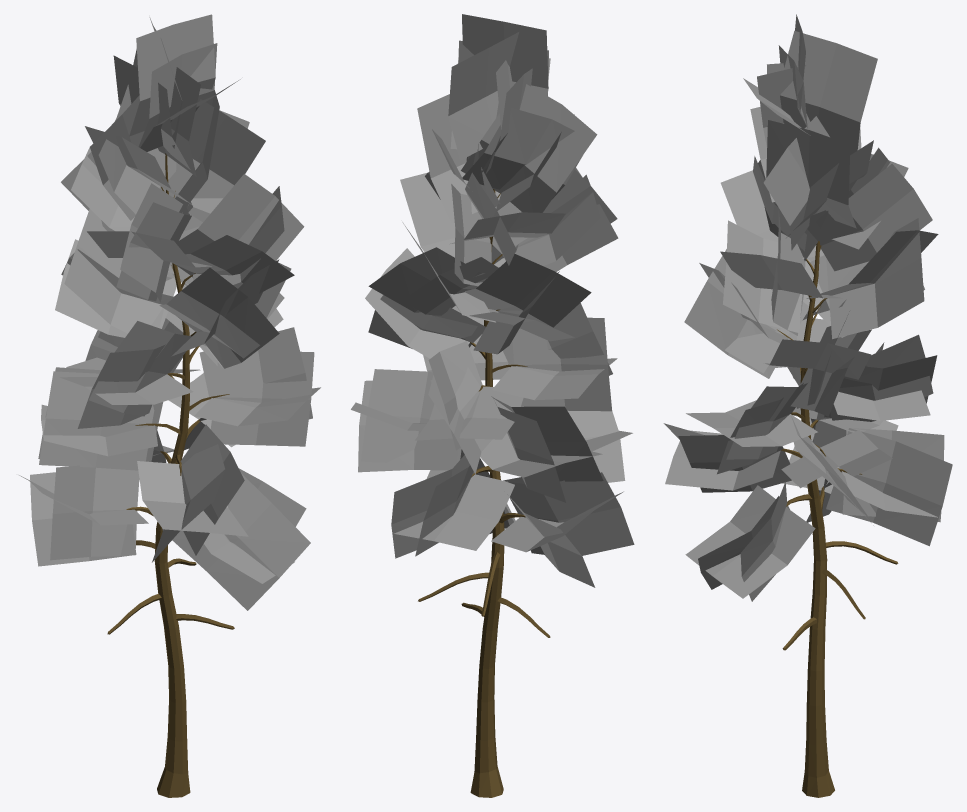
Rendered from Tree_Fay_Orange6.fbx.
3 renders of one model, left to right at view 1: azimuth 30°, elevation 25°; view 2: azimuth 150°, elevation 25°; view 3: azimuth 270°, elevation 25°, orthographic. The views are drawn at different scales.
Parts seen in each view (by area): view 1: Mesh; view 2: Mesh; view 3: Mesh.
Boxes of the visible parts, x1,y1,x2,y2 form: Mesh: (19, 14, 320, 797); Mesh: (351, 14, 634, 797); Mesh: (663, 14, 952, 797).
Bounding box in the file's own units: 1745 × 4971 × 1728.
